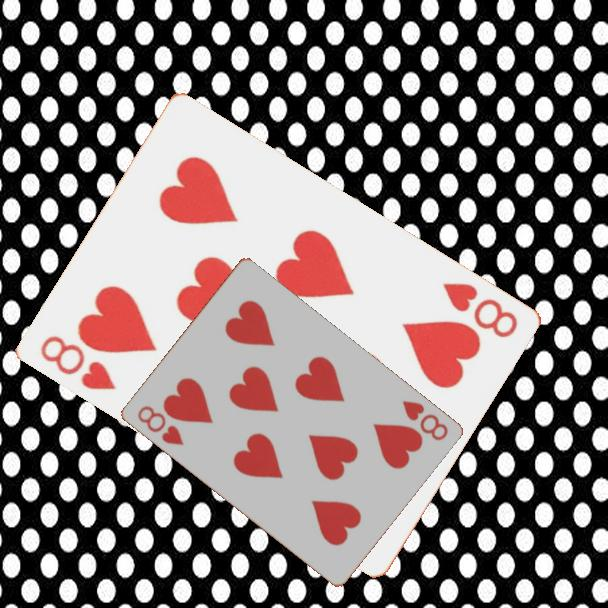h08: (438, 279, 520, 342), (36, 332, 118, 393), (398, 397, 451, 444), (133, 402, 186, 448)
